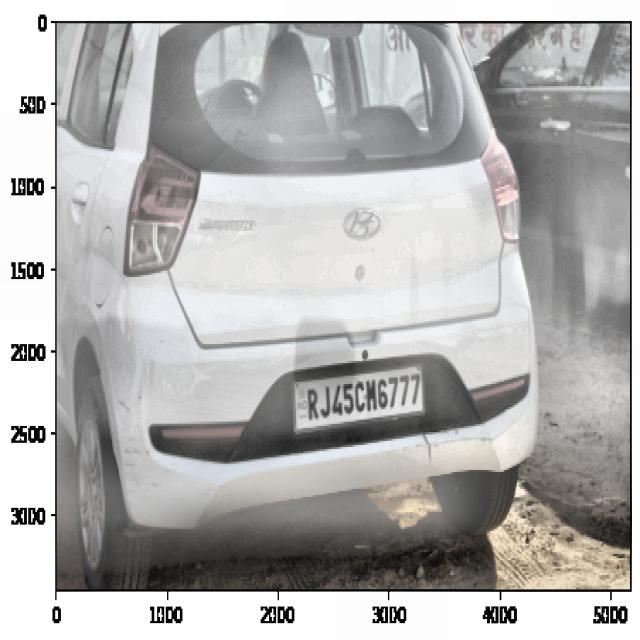license_plate: (304, 368, 424, 422)
